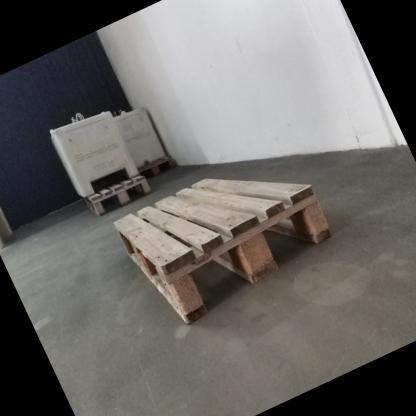BoxFace: (112, 172, 337, 331)
